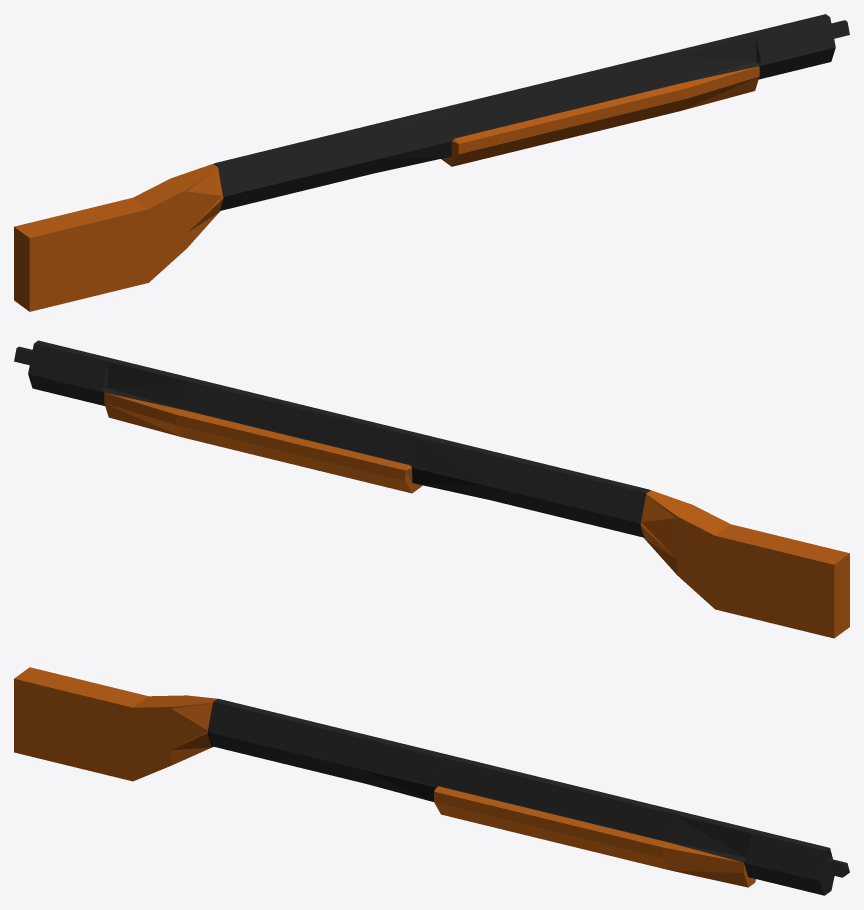
File: Shotgun_Model.fbx
3 renders of one model, top to bottom at view 1: azimuth 30°, elevation 25°; view 2: azimuth 150°, elevation 25°; view 3: azimuth 330°, elevation 25°, orthographic.
Visible parts, largest first — view 1: shotgun.000; view 2: shotgun.000; view 3: shotgun.000.
Part boxes in pixels (<box>): shotgun.000: <box>14,14,849,311</box>; shotgun.000: <box>14,340,849,638</box>; shotgun.000: <box>14,667,849,895</box>.
Size of the model in its own units: 32.85 by 3.58 by 1.72.
